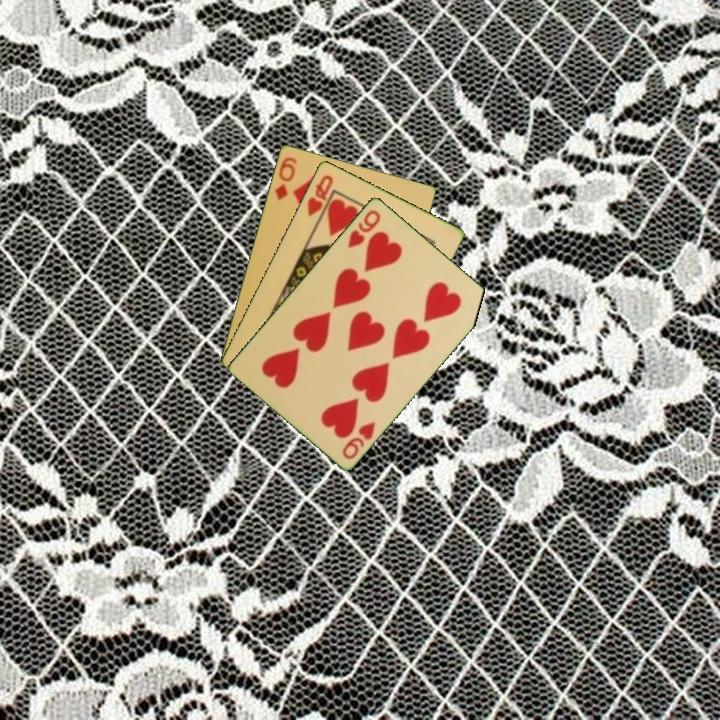6d: (271, 153, 299, 203)
9h: (344, 206, 383, 251), (339, 418, 378, 462)
Qh: (303, 171, 336, 219)
